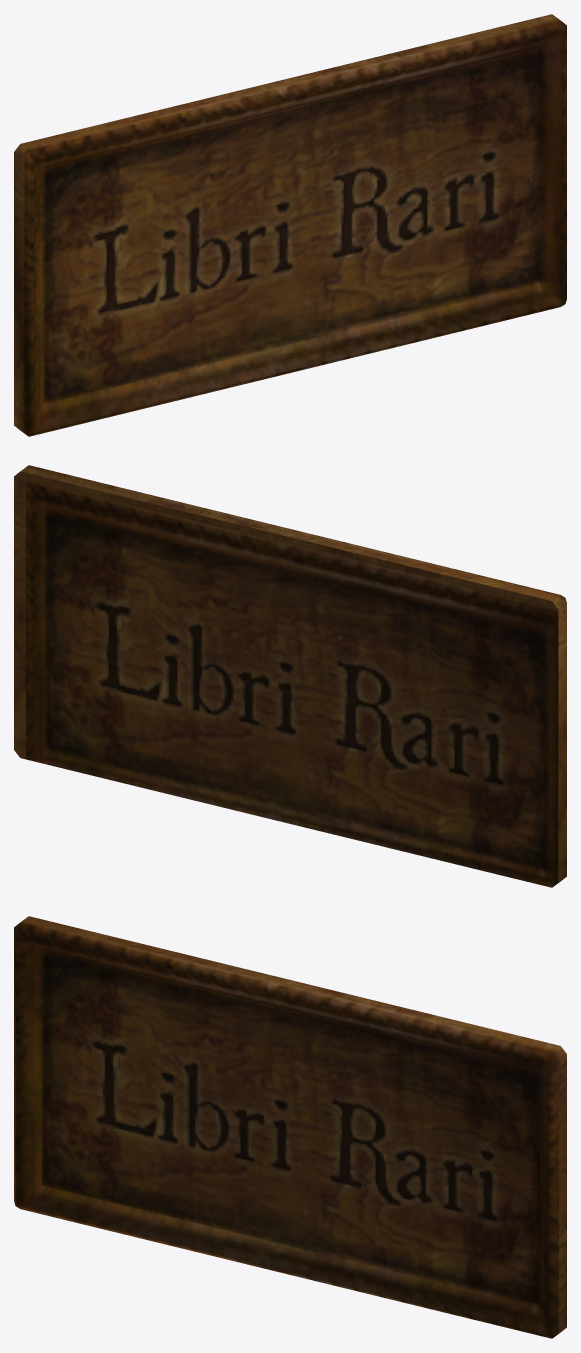
The model's file is sign_rare_books.dae.
3 views of the same model, one above another, from view 1: azimuth 30°, elevation 25°; view 2: azimuth 150°, elevation 25°; view 3: azimuth 330°, elevation 25° (orthographic).
Visible parts, largest first — view 1: Box02; view 2: Box02; view 3: Box02.
Boxes of the visible parts, x1=… form: Box02: x1=14, y1=14, x2=566, y2=436; Box02: x1=14, y1=465, x2=566, y2=887; Box02: x1=14, y1=916, x2=566, y2=1338.
Bounding box in the file's own units: 0.6037 × 0.0235 × 0.3038.
